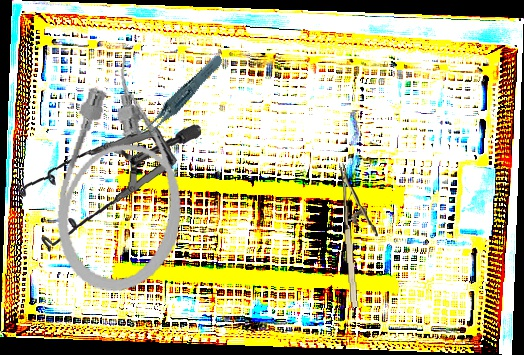Cannula: (46, 48, 204, 302)
Needle Holder: (339, 161, 382, 308)
Speculum: (11, 108, 202, 266)
Tissue Forceps: (122, 53, 236, 140)
